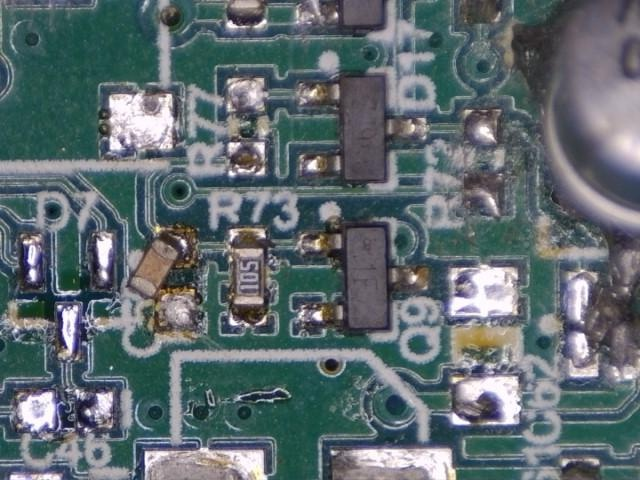pcb_defect: (299, 221, 429, 330), (127, 227, 198, 333)
